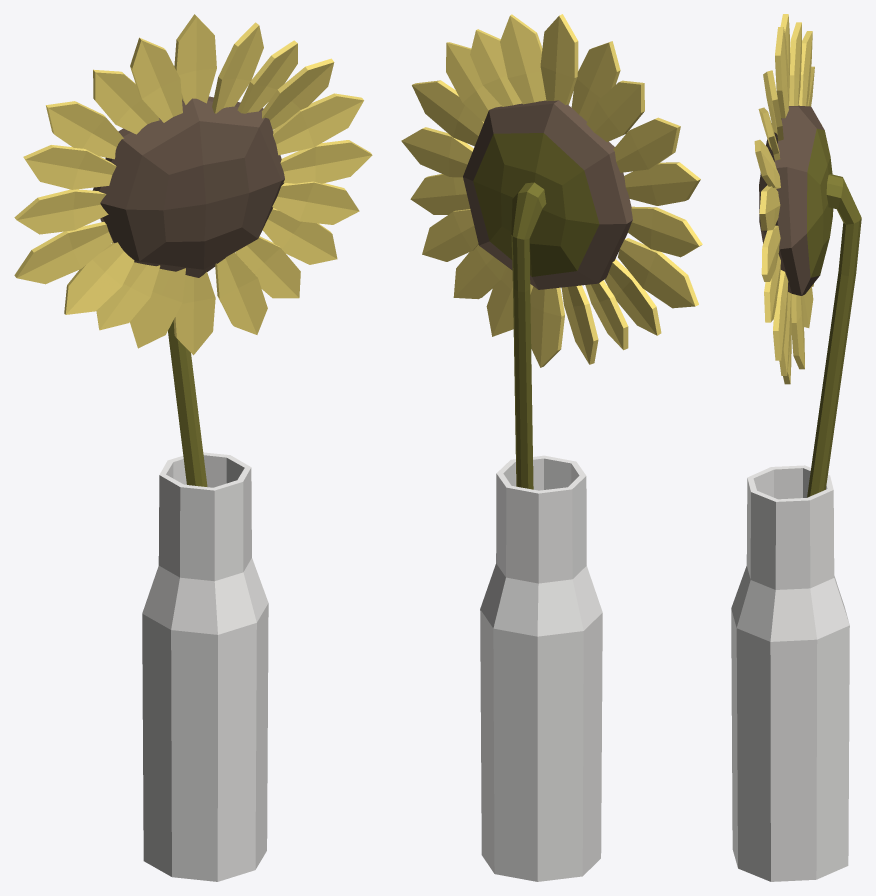
Rendered from Flower_64.fbx.
3 views of the same model, side by side, from view 1: azimuth 30°, elevation 25°; view 2: azimuth 150°, elevation 25°; view 3: azimuth 270°, elevation 25° (orthographic). The views are drawn at different scales.
Visible parts, largest first — view 1: Flower_64; view 2: Flower_64; view 3: Flower_64.
Part boxes in pixels (x1,y1,x2,y2): Flower_64: [14, 14, 372, 881]; Flower_64: [401, 14, 702, 881]; Flower_64: [731, 14, 861, 881].
Size of the model in its own units: 27.82 by 9.85 by 68.74.
